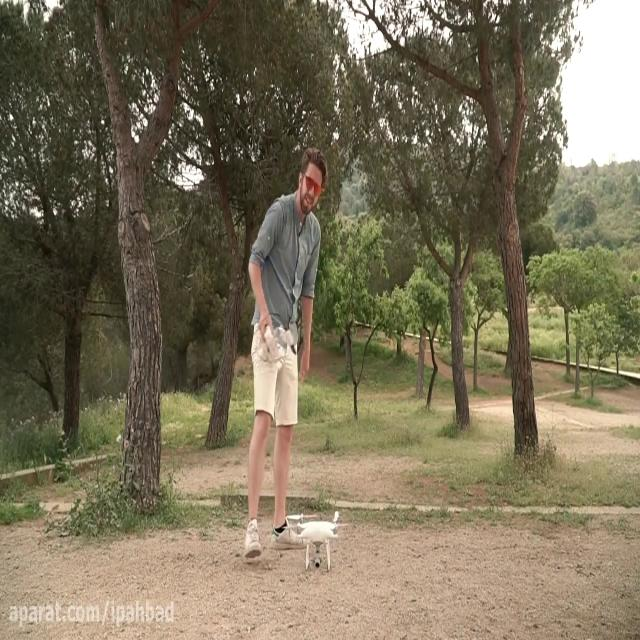drone: (288, 508, 348, 574)
